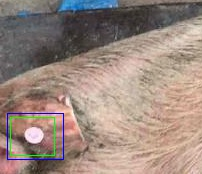text: (10, 117, 54, 155)
